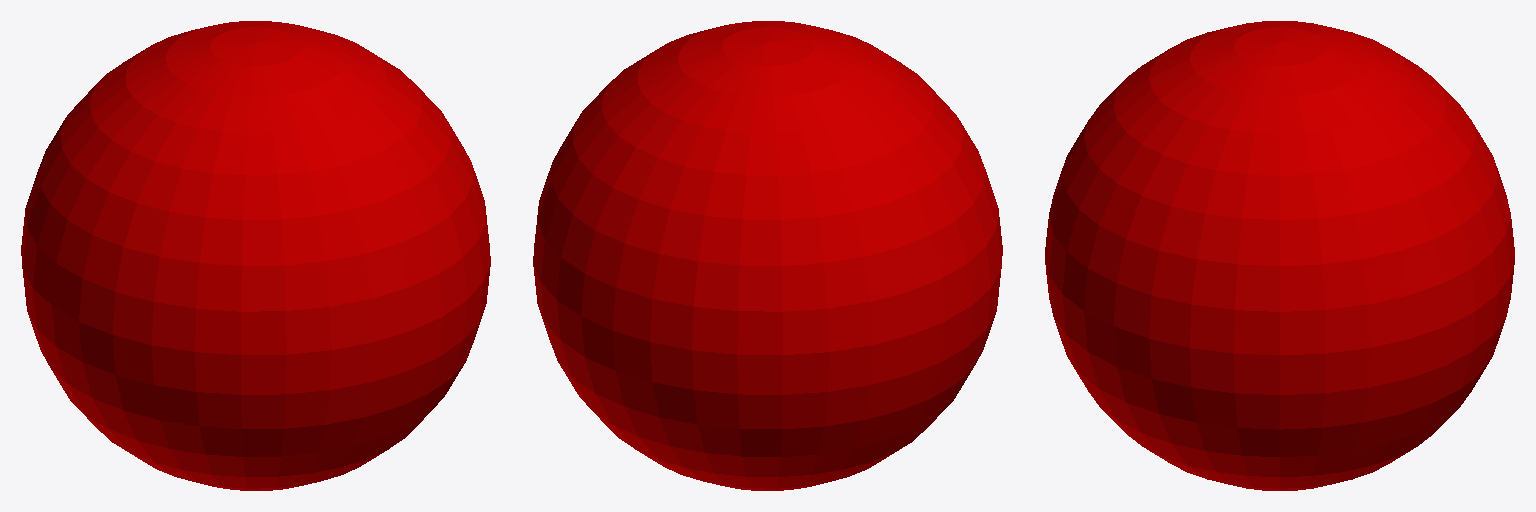
The model's file is player.obj.
The picture shows the model from 3 angles: view 1: azimuth 30°, elevation 25°; view 2: azimuth 150°, elevation 25°; view 3: azimuth 270°, elevation 25°; orthographic projection.
Parts seen in each view (by area): view 1: 球; view 2: 球; view 3: 球.
Boxes of the visible parts, x1,y1,x2,y2 form: 球: [21, 21, 490, 490]; 球: [533, 21, 1002, 490]; 球: [1045, 21, 1514, 490].
Size of the model in its own units: 1 by 1 by 1.